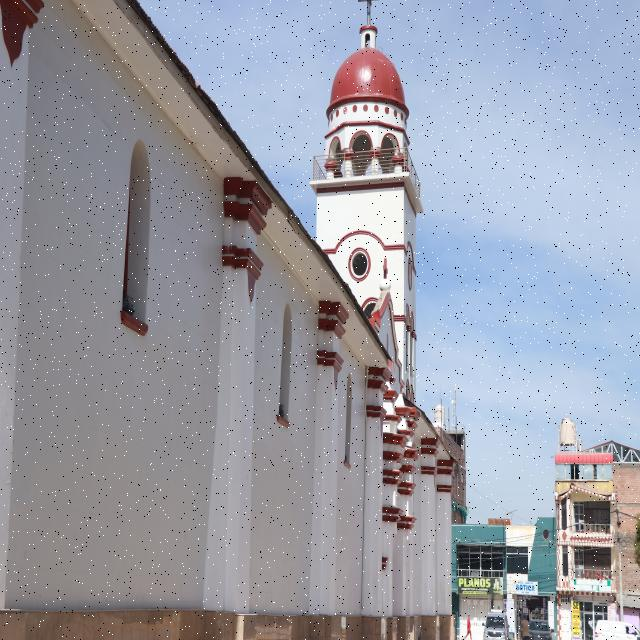CAMPANARIO: (279, 158, 444, 402)
CUPULA: (286, 1, 438, 174)
colonial-architecture-: (0, 0, 464, 640)
